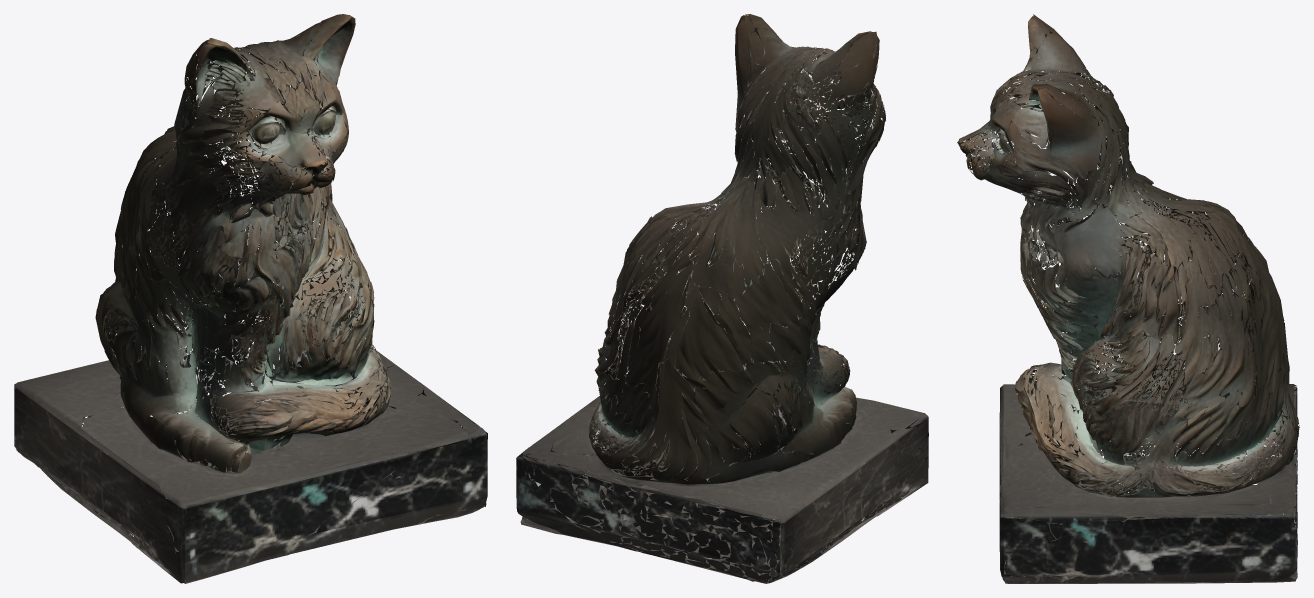
Rendered from cat_statue.glb.
The picture shows the model from 3 angles, left to right: view 1: azimuth 30°, elevation 25°; view 2: azimuth 150°, elevation 25°; view 3: azimuth 270°, elevation 25°; orthographic projection. The views are drawn at different scales.
Parts seen in each view (by area): view 1: node_0; view 2: node_0; view 3: node_0.
Boxes of the visible parts, x1,y1,x2,y2 form: node_0: (14,14,487,583); node_0: (516,14,928,583); node_0: (957,14,1299,583).
Size of the model in its own units: 0.5601 by 0.9028 by 0.6125.
Materials: 1 (1 with a texture image).
